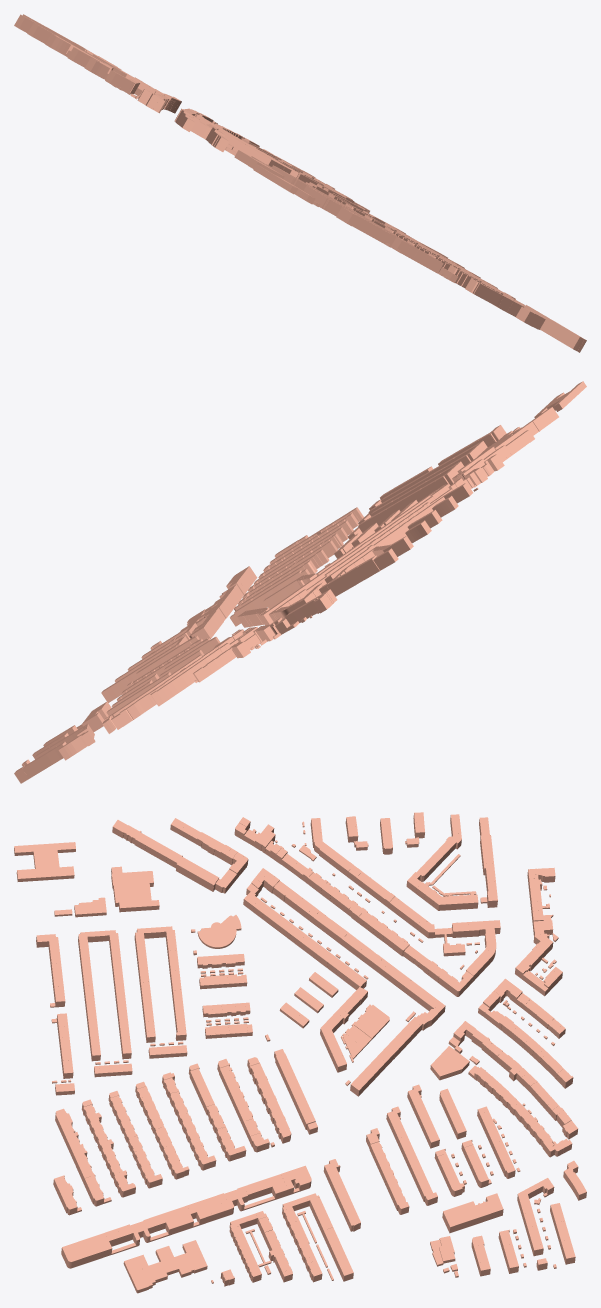
3 renders of one model, top to bottom at view 1: azimuth 30°, elevation 25°; view 2: azimuth 150°, elevation 25°; view 3: azimuth 270°, elevation 25°, orthographic.
Size of the model in its own units: 515 by 385 by 664.
